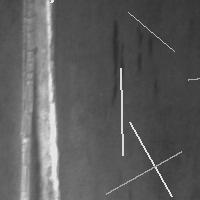scratches: (16, 1, 61, 198), (101, 146, 186, 198), (124, 117, 176, 200), (123, 7, 179, 56), (108, 19, 126, 105), (115, 63, 127, 160), (134, 26, 153, 70), (183, 68, 200, 84), (46, 0, 84, 7)
